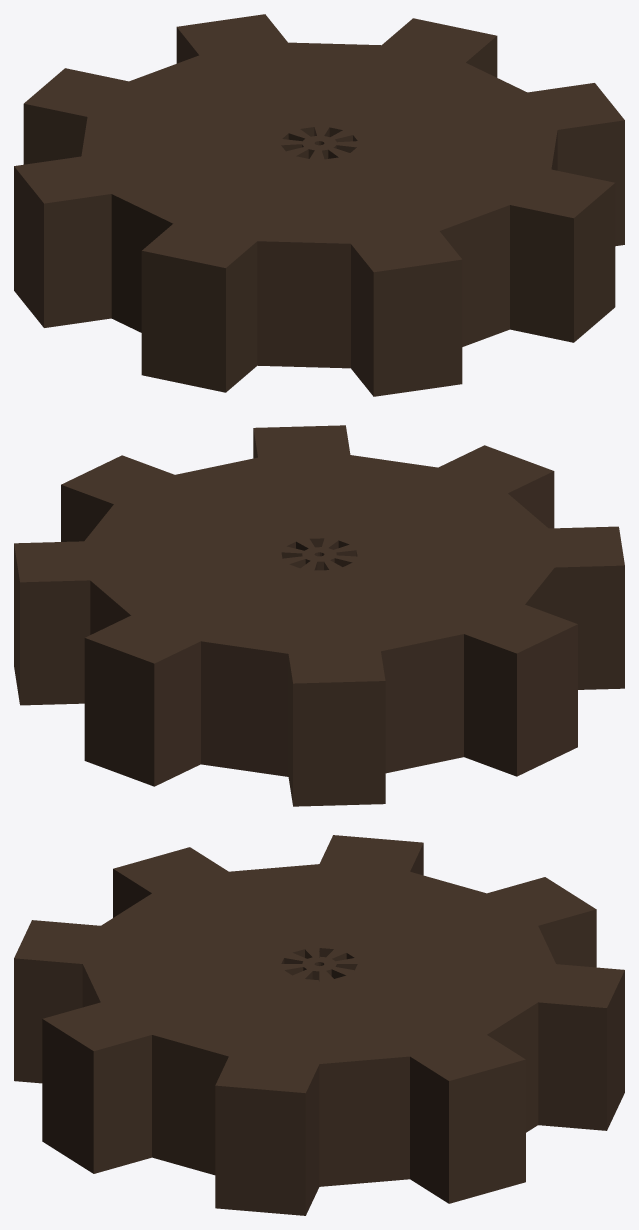
The model's file is Rouage mur 1.fbx.
The picture shows the model from 3 angles, top to bottom: view 1: azimuth 30°, elevation 25°; view 2: azimuth 150°, elevation 25°; view 3: azimuth 270°, elevation 25°; orthographic projection.
Parts seen in each view (by area): view 1: Cercle.001; view 2: Cercle.001; view 3: Cercle.001.
Part boxes in pixels (<box>): Cercle.001: <box>14,14,624,396</box>; Cercle.001: <box>14,425,624,806</box>; Cercle.001: <box>14,835,624,1215</box>.
Size of the model in its own units: 322 by 71.38 by 322.
